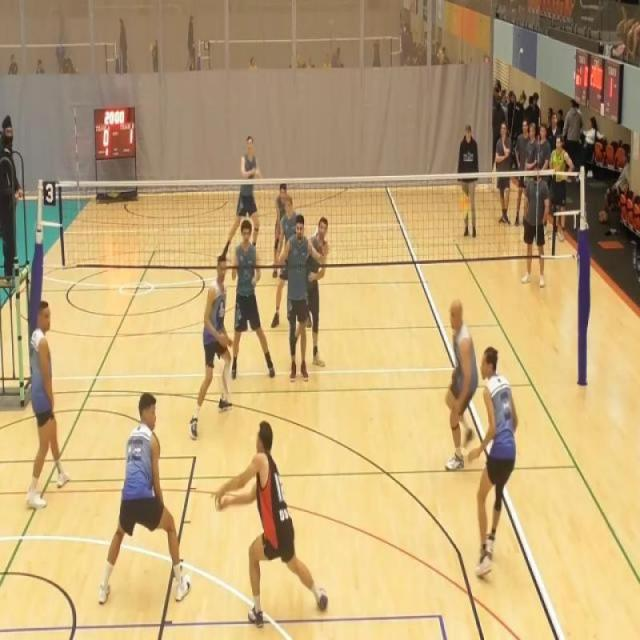volleyball: (218, 367, 233, 398)
